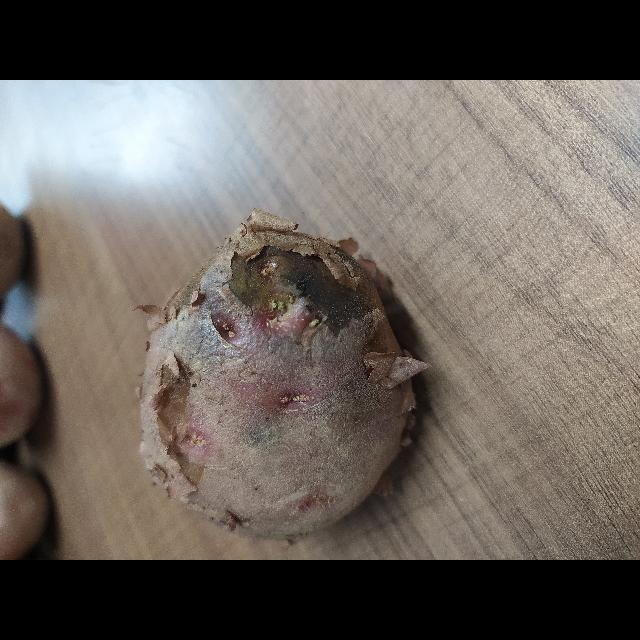Damaged potato: (15, 213, 348, 499)
